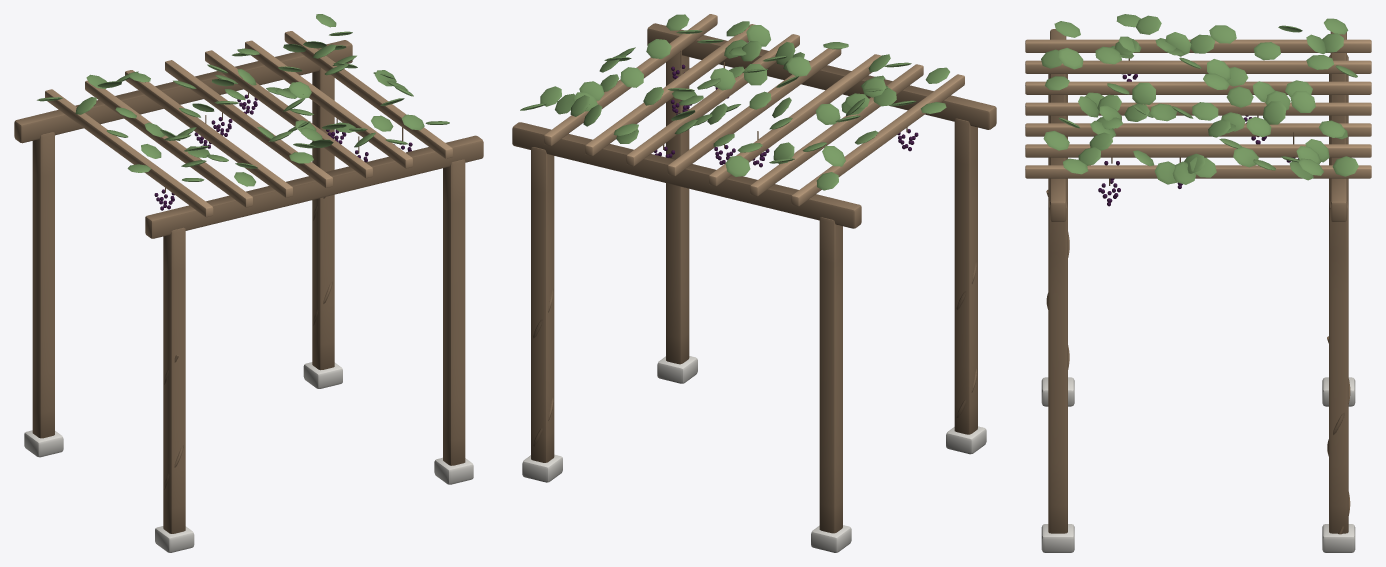
File: obj_kit_pergola.glb
3 views of the same model, side by side, from view 1: azimuth 30°, elevation 25°; view 2: azimuth 150°, elevation 25°; view 3: azimuth 270°, elevation 25° (orthographic). The views are drawn at different scales.
Parts seen in each view (by area): view 1: Cube.004, Cube.008, Cube.002, Cube, Cube.006, Cube.009, Cube.010, Cube.012, Cube.013, Cube.015, Cube.016, Cube.011 (+5 smaller); view 2: Cube.002, Cube.009, Cube.006, Cube, Cube.004, Cube.008, Cube.010, Cube.013, Cube.011, Cube.012, Cube.015, Cube.014 (+5 smaller); view 3: Cube.004, Cube.006, Cube.011, Cube.015, Cube.014, Cube.012, Cube.016, Cube.010, Cube.013, Cube.009, Cube.008, Cube.005 (+6 smaller).
Boxes of the visible parts, bbox=[...] form: Cube.004: bbox=[443, 159, 465, 465]; Cube.008: bbox=[145, 135, 483, 238]; Cube.002: bbox=[32, 132, 54, 438]; Cube: bbox=[163, 227, 185, 533]; Cube.006: bbox=[312, 67, 334, 370]; Cube.009: bbox=[14, 40, 352, 143]; Cube.010: bbox=[45, 89, 213, 217]; Cube.012: bbox=[125, 70, 292, 197]; Cube.013: bbox=[165, 60, 332, 187]; Cube.015: bbox=[245, 40, 412, 168]; Cube.016: bbox=[284, 31, 452, 158]; Cube.011: bbox=[85, 80, 252, 207]; Cube.002: bbox=[819, 217, 842, 533]; Cube.009: bbox=[512, 122, 861, 228]; Cube.006: bbox=[531, 147, 554, 462]; Cube: bbox=[954, 118, 977, 434]; Cube.004: bbox=[666, 52, 689, 364]; Cube.008: bbox=[647, 23, 996, 129]; Cube.010: bbox=[791, 74, 964, 206]; Cube.013: bbox=[667, 48, 841, 176]; Cube.011: bbox=[750, 64, 923, 196]; Cube.012: bbox=[709, 54, 881, 186]; Cube.015: bbox=[585, 24, 755, 155]; Cube.014: bbox=[626, 34, 799, 166]; Cube.004: bbox=[1048, 201, 1067, 533]; Cube.006: bbox=[1329, 201, 1348, 533]; Cube.011: bbox=[1025, 60, 1371, 73]; Cube.015: bbox=[1025, 144, 1371, 157]; Cube.014: bbox=[1025, 123, 1371, 136]; Cube.012: bbox=[1025, 81, 1371, 94]; Cube.016: bbox=[1025, 165, 1371, 178]; Cube.010: bbox=[1025, 39, 1371, 52]; Cube.013: bbox=[1025, 102, 1371, 115]; Cube.009: bbox=[1330, 31, 1346, 221]; Cube.008: bbox=[1050, 29, 1066, 221]; Cube.005: bbox=[1041, 524, 1074, 552].
Bounding box in the file's own units: 2.5 × 2.63 × 2.1.
